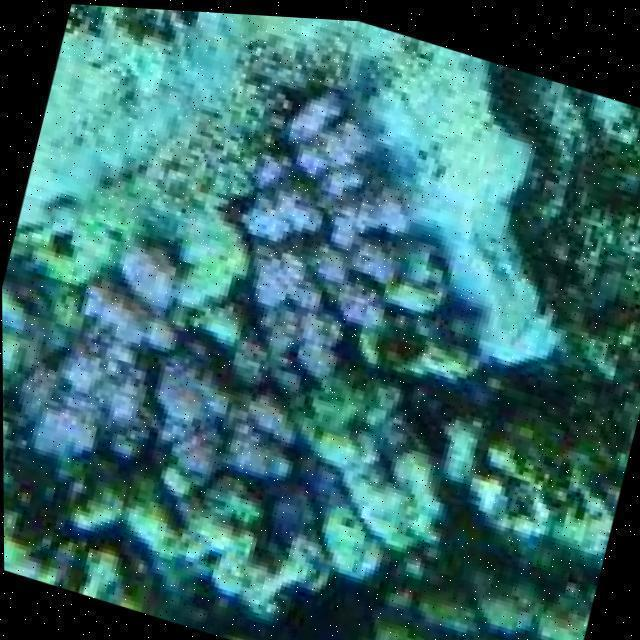Healthy Coral: (25, 114, 477, 591)
